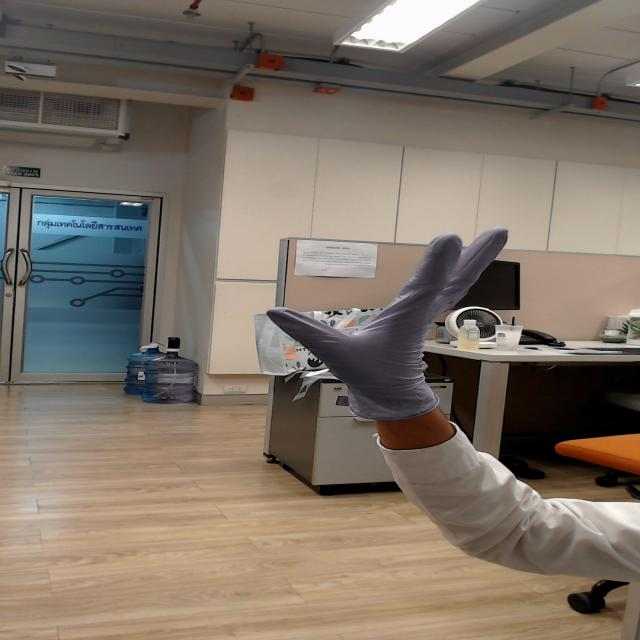glove: (216, 200, 553, 400)
